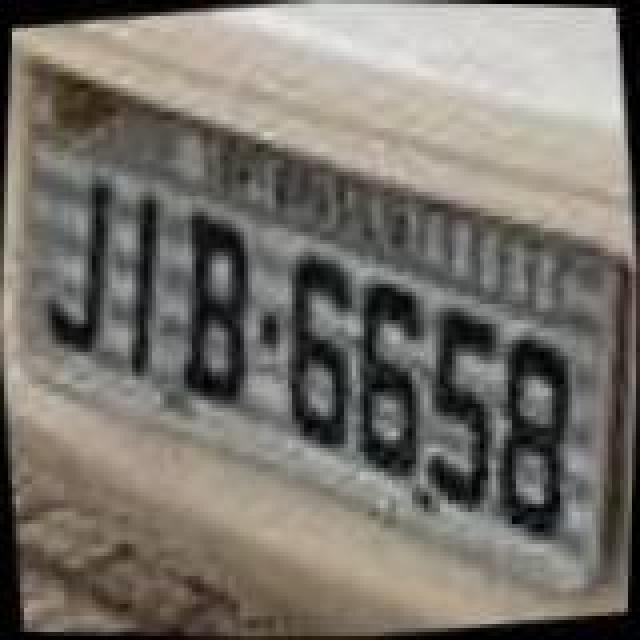1: (104, 182, 184, 382)
5: (398, 298, 518, 514)
6: (266, 246, 374, 454), (334, 272, 442, 480)
8: (474, 324, 594, 540)
B: (160, 200, 268, 404)
J: (24, 174, 136, 354)
